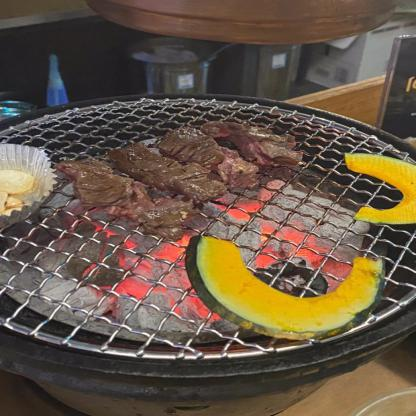Carne: (54, 156, 168, 220), (159, 128, 250, 176), (120, 146, 202, 191), (214, 125, 300, 166)
